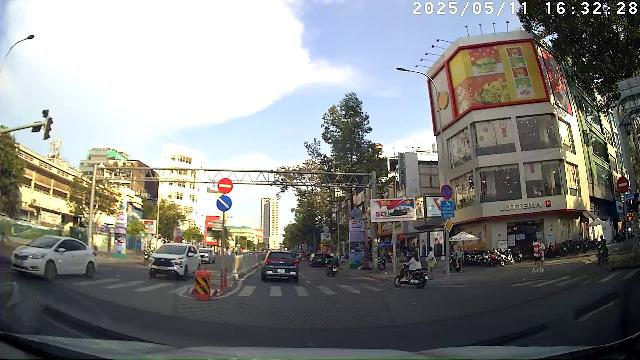102-cam-di-nguoc-chieu: (217, 178, 233, 194)
130-cam-dung-va-do-xe: (440, 184, 453, 198)
302a-huong-phai-di-vong-chuong-ngai-vat-1: (216, 195, 232, 212)
